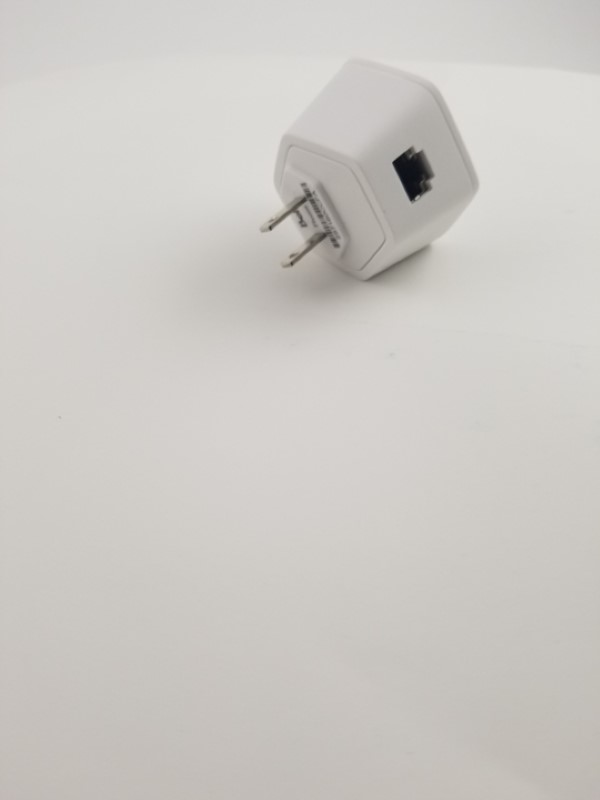pod: (256, 50, 486, 316)
